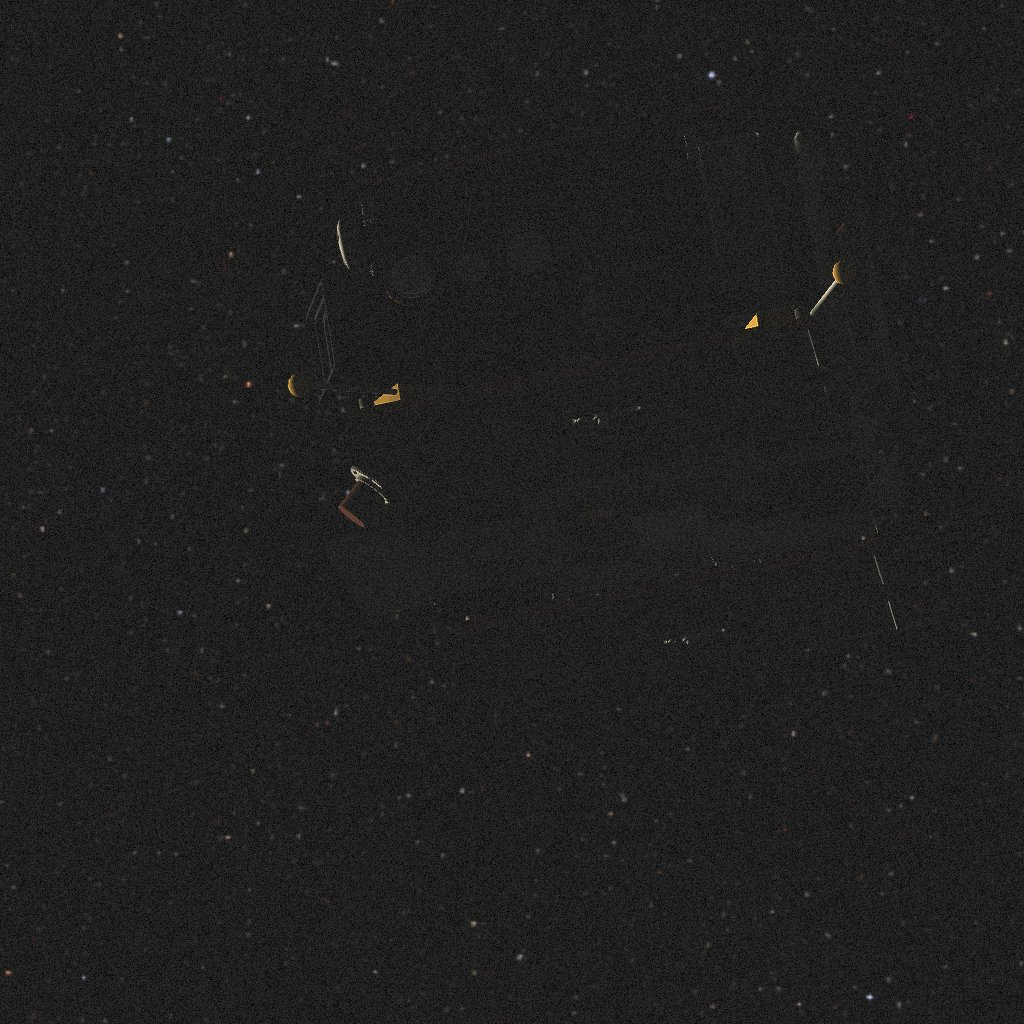proba_2: (256, 94, 959, 655)
